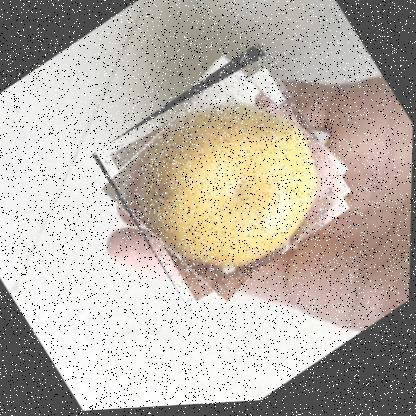orange: (88, 38, 362, 321)
